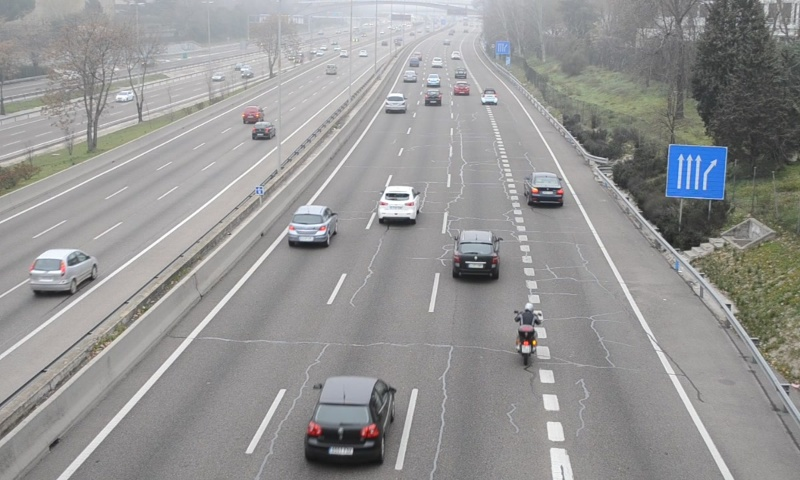car: (304, 374, 394, 466), (452, 228, 500, 278), (288, 204, 336, 242), (378, 185, 418, 220), (525, 172, 564, 206), (384, 92, 408, 114), (480, 87, 498, 105), (424, 88, 442, 106), (453, 80, 471, 96)
motorcycle: (514, 302, 544, 366)
